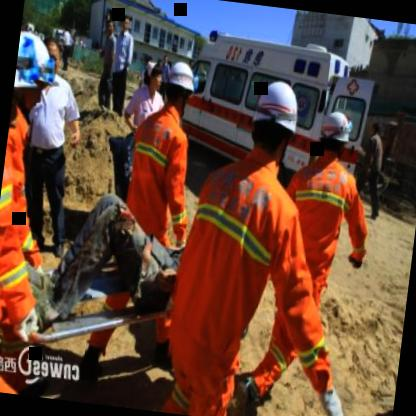helmet: (244, 74, 306, 172), (7, 17, 42, 140), (10, 32, 58, 116), (314, 109, 354, 168), (161, 58, 198, 116)
